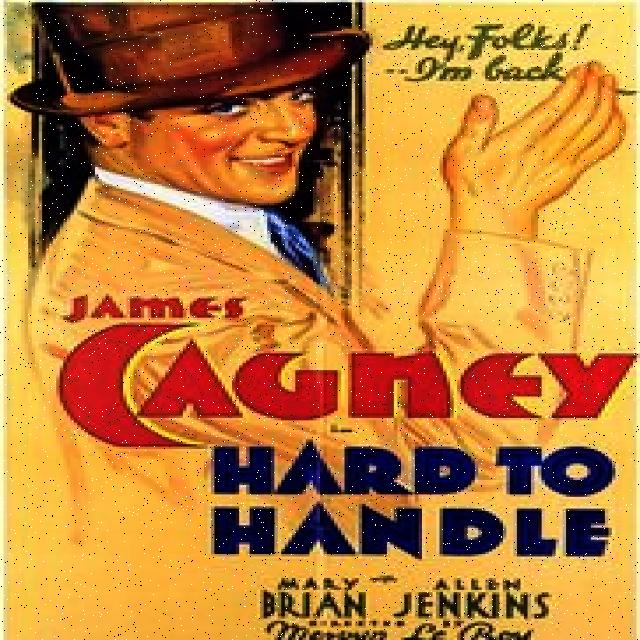movie-judul: (40, 284, 635, 570), (370, 13, 635, 108), (237, 575, 588, 640)
picture: (5, 0, 629, 554)
